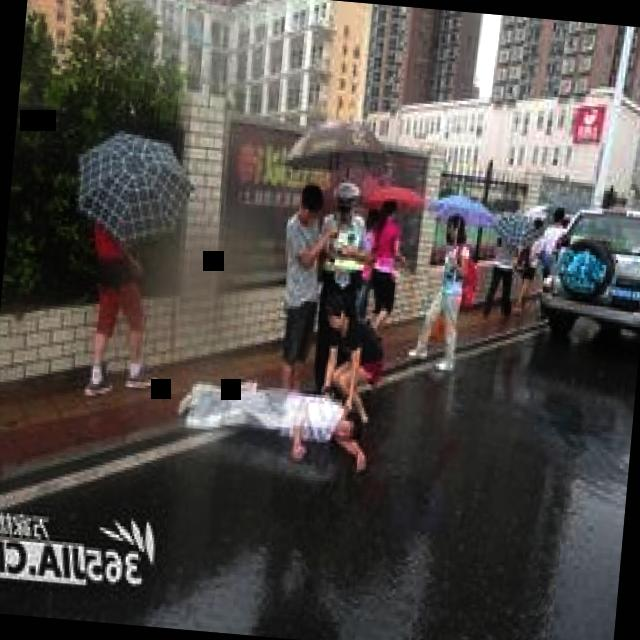Fall-Detected: (174, 347, 392, 477)
